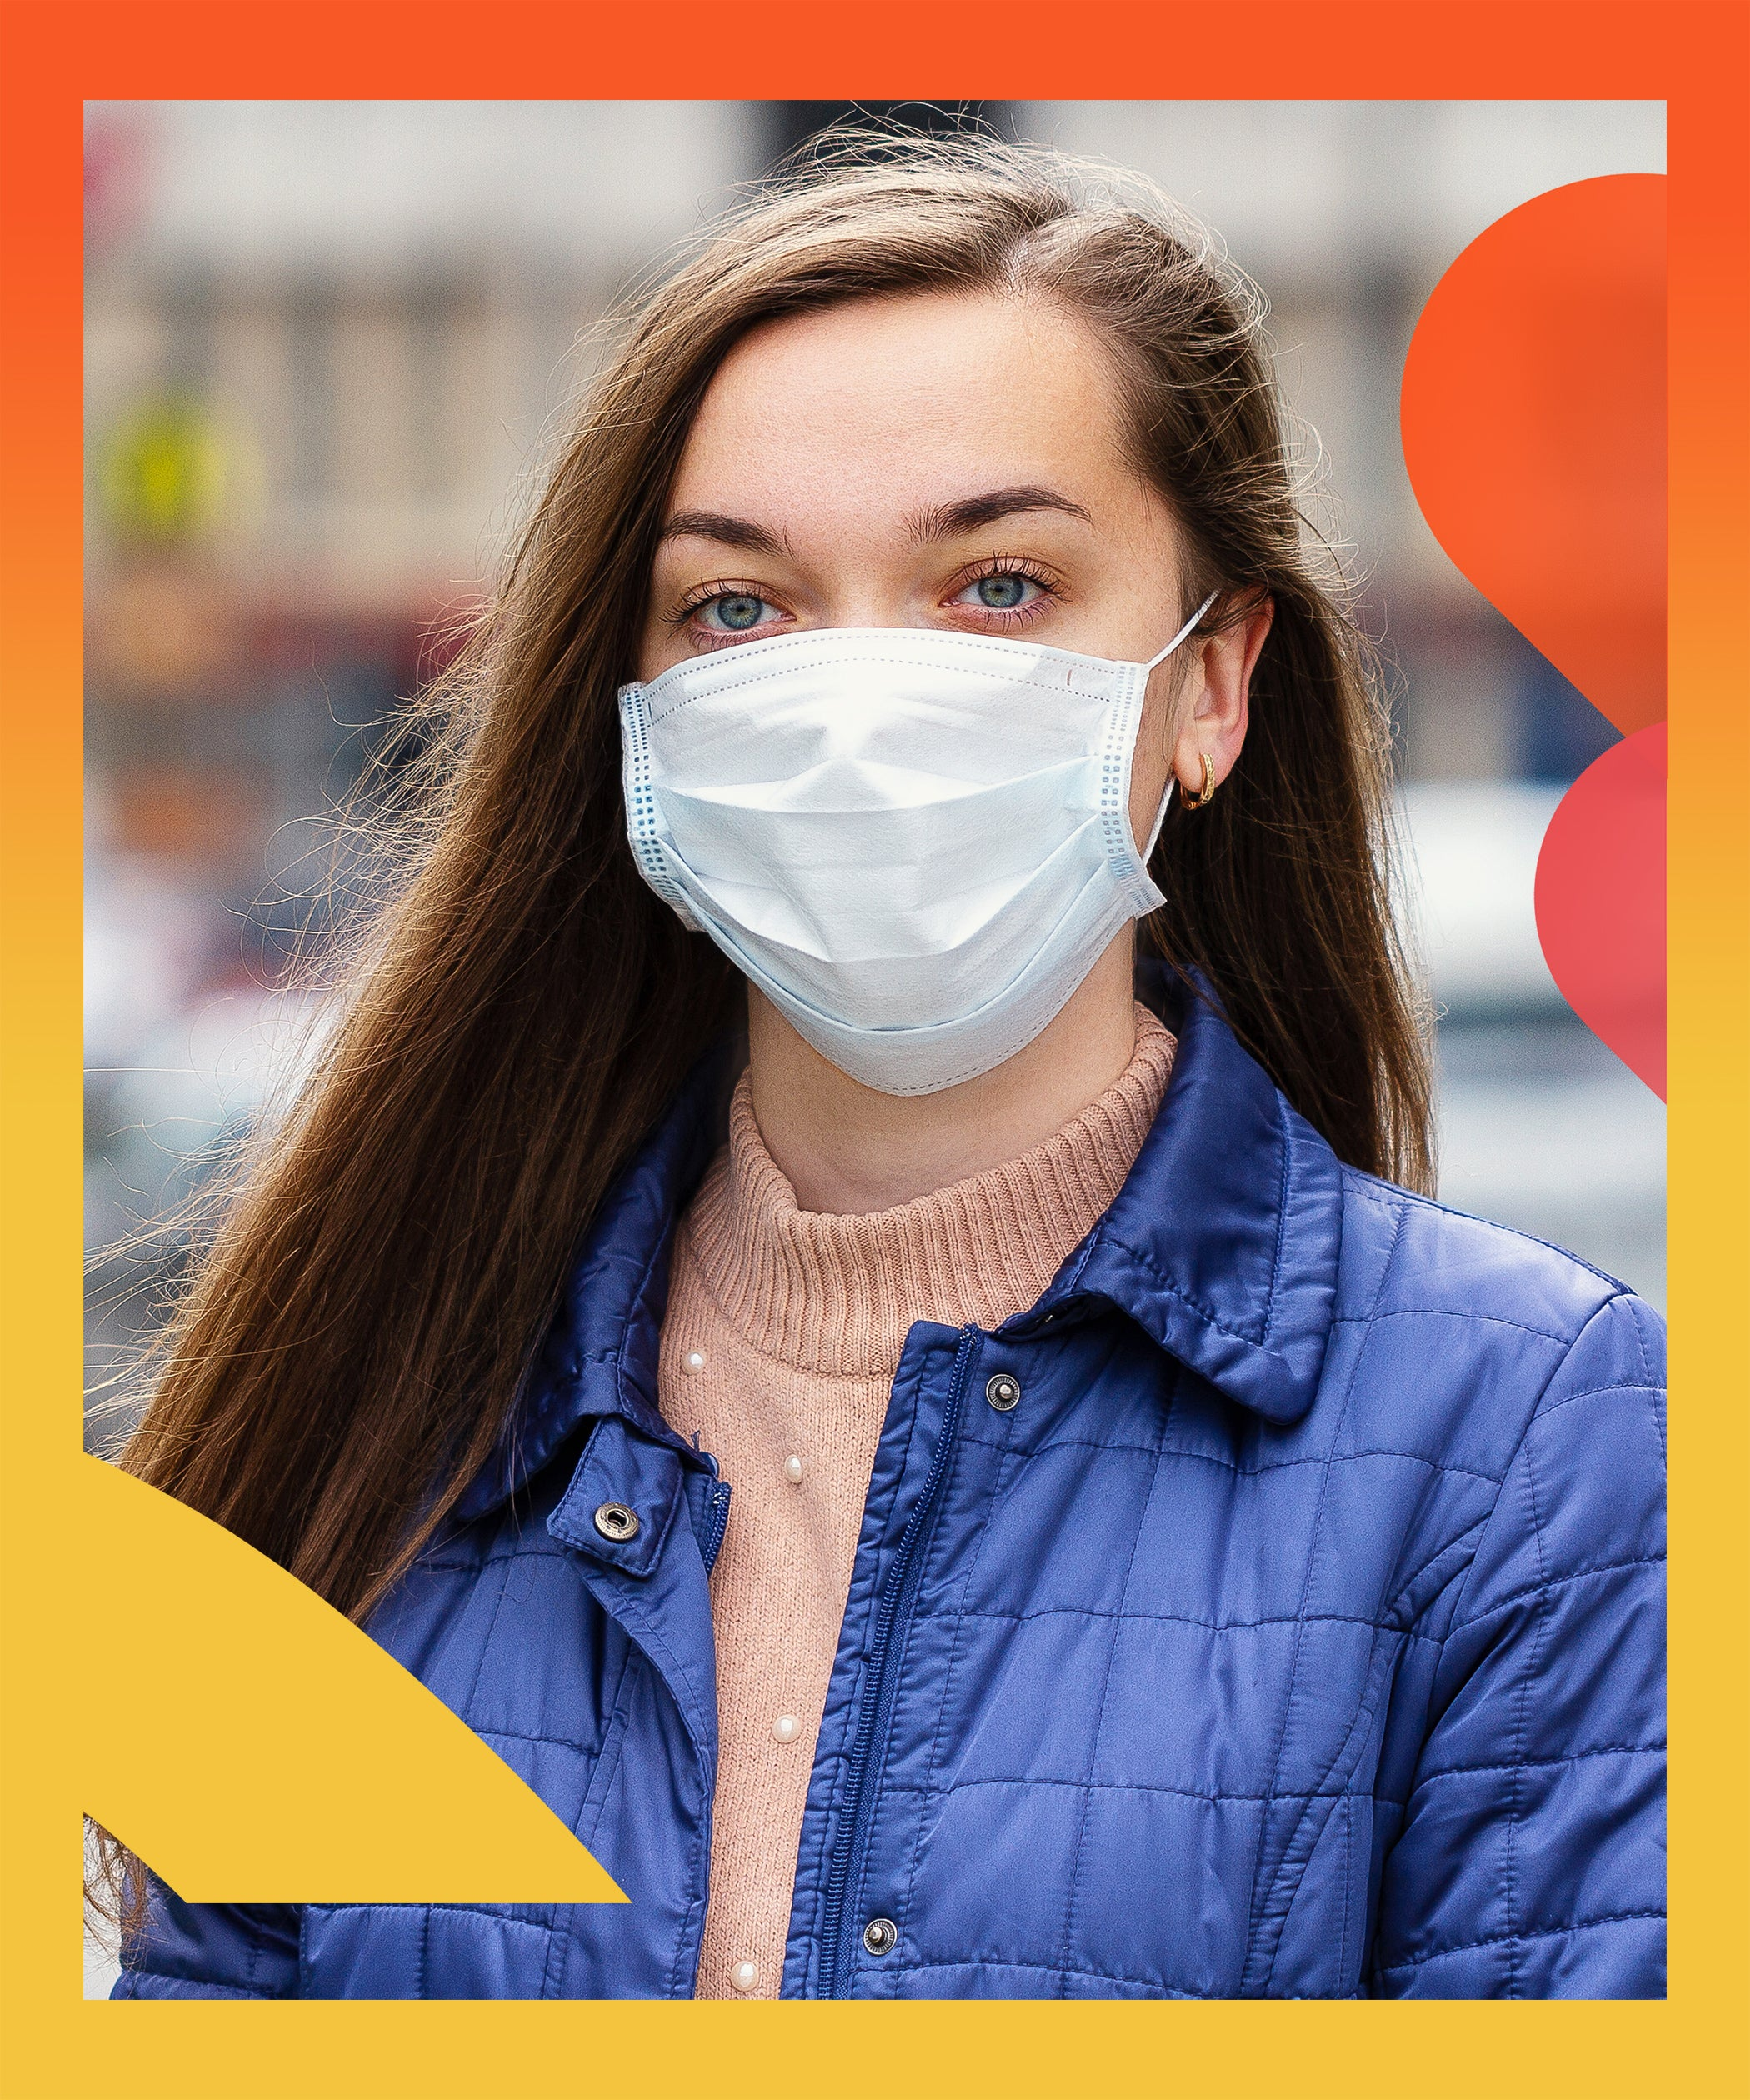surgical: (575, 622, 1204, 1109)
